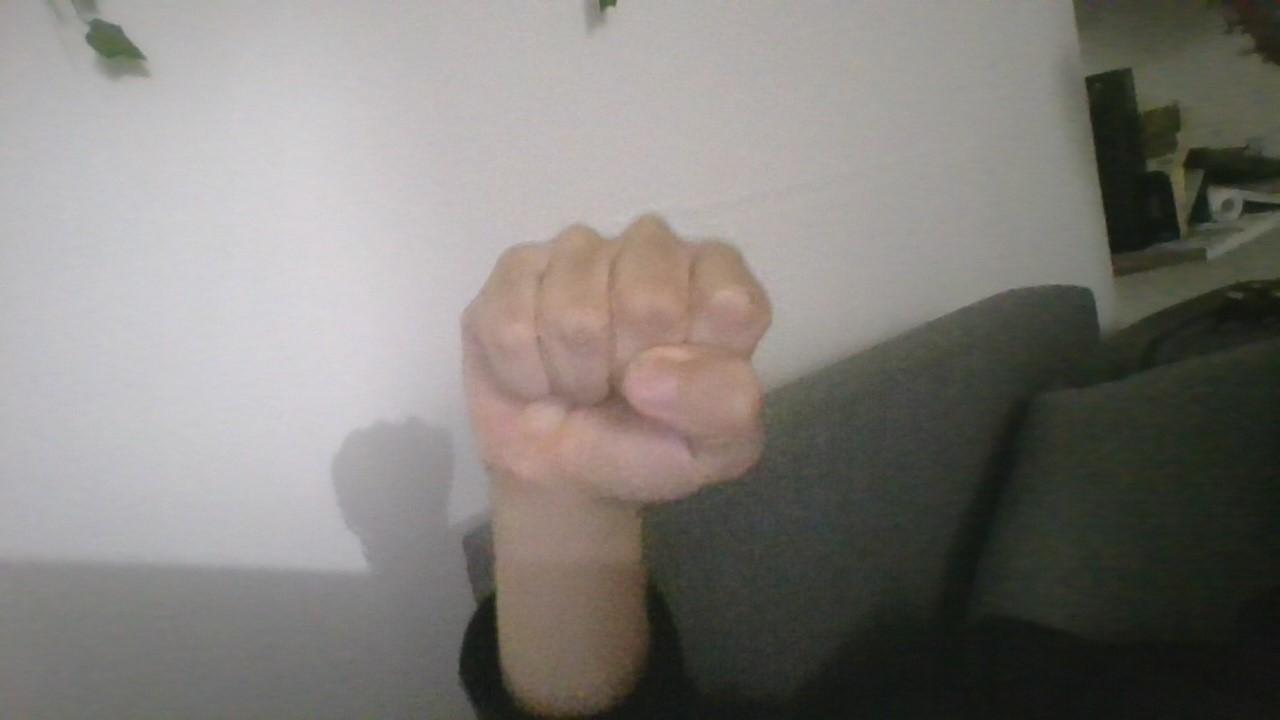stop: (443, 170, 793, 538)
